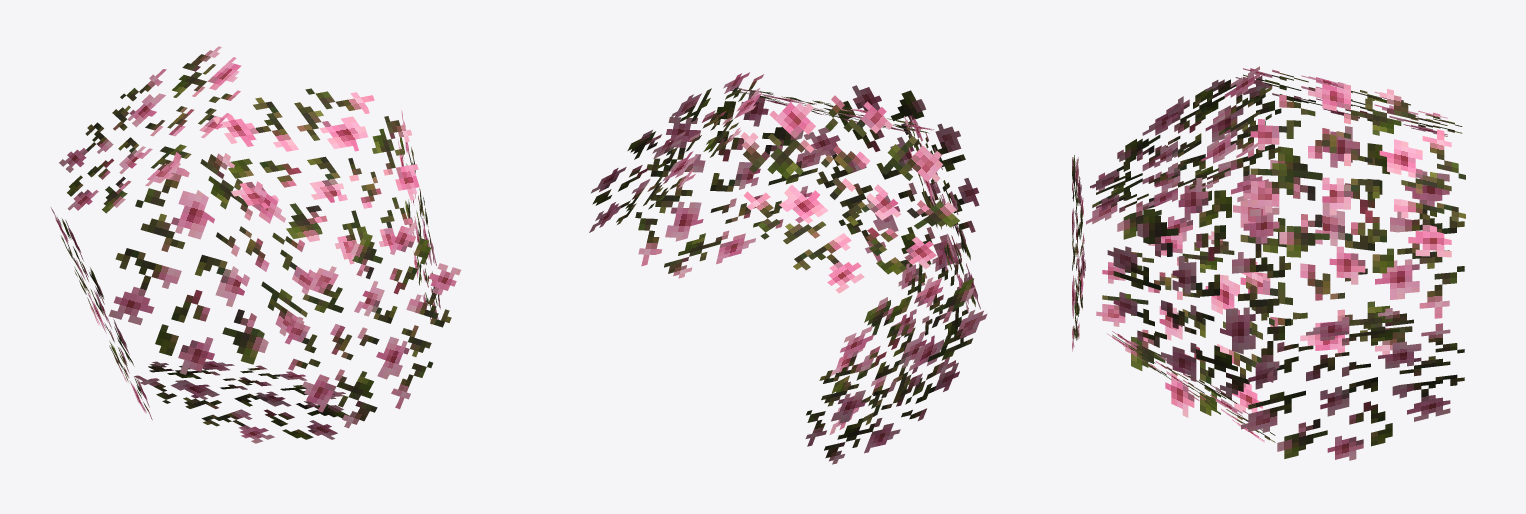
File: flowers-big-10-pink.obj
3 renders of one model, left to right at view 1: azimuth 30°, elevation 25°; view 2: azimuth 150°, elevation 25°; view 3: azimuth 270°, elevation 25°, orthographic.
Size of the model in its own units: 1.37 by 1.42 by 1.28.
Materials: 1 (1 with a texture image).
